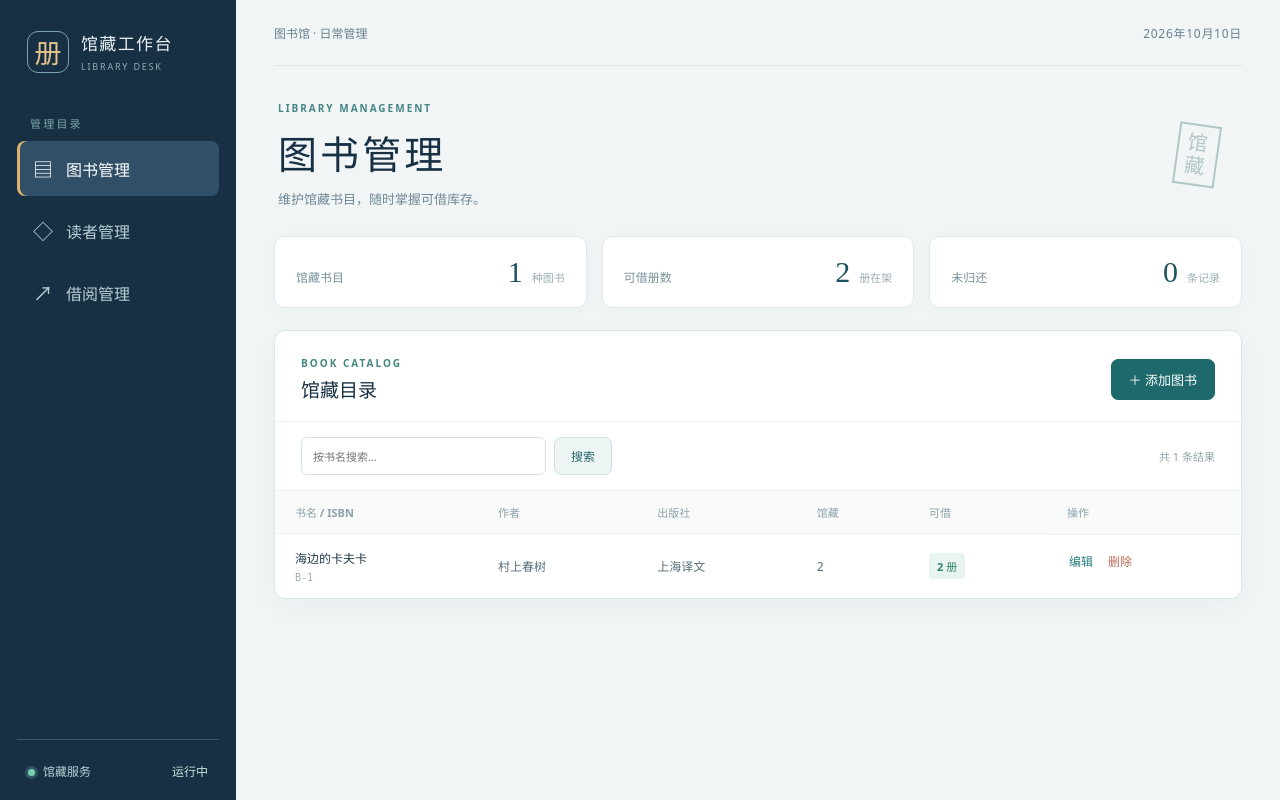
borrows and returns a book from the circulation view
Click the button "↗ 借阅管理".
click(118, 292)  # box [17,265,219,320]
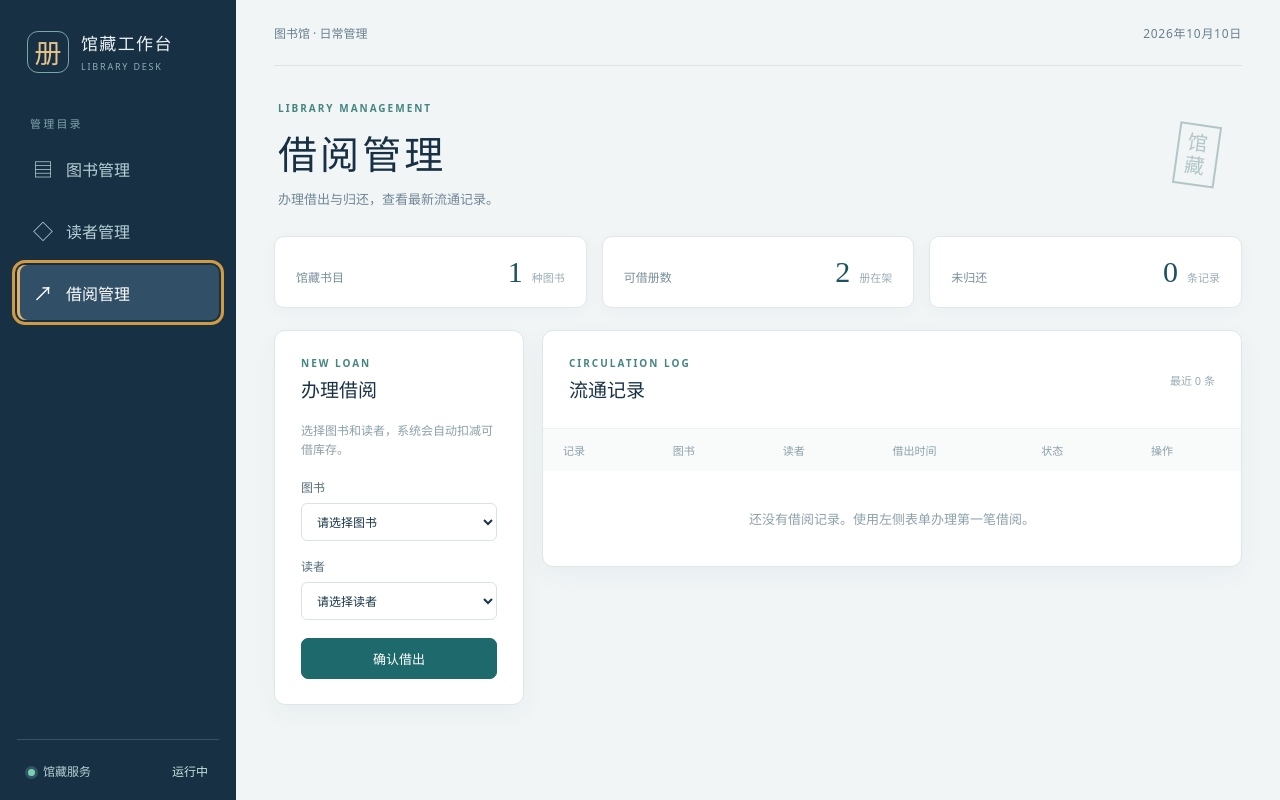
Select "海边的卡夫卡 · 可借 2 册" in the dropdown labelled "图书" at (399, 522), box [301,503,497,541]
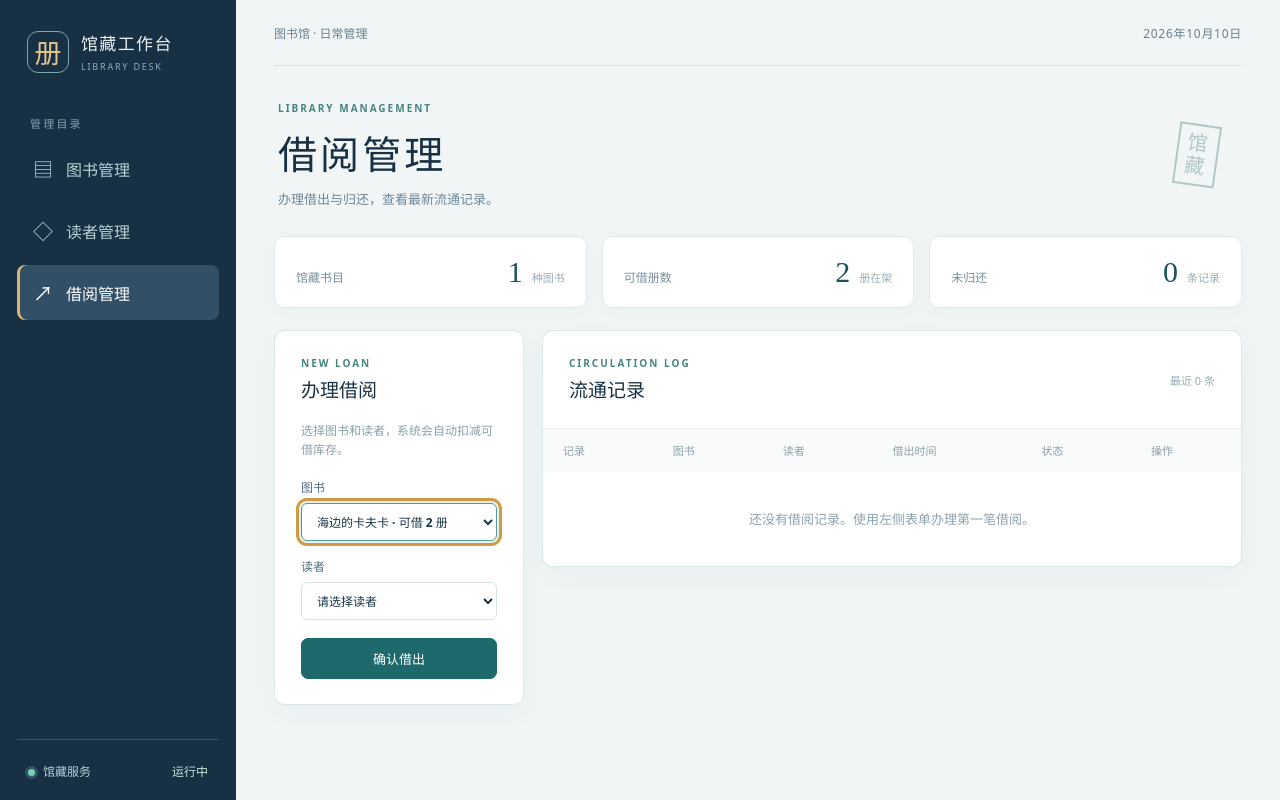
Select "林同学 · R-2" in the dropdown labelled "读者" at (399, 601), box [301,582,497,620]
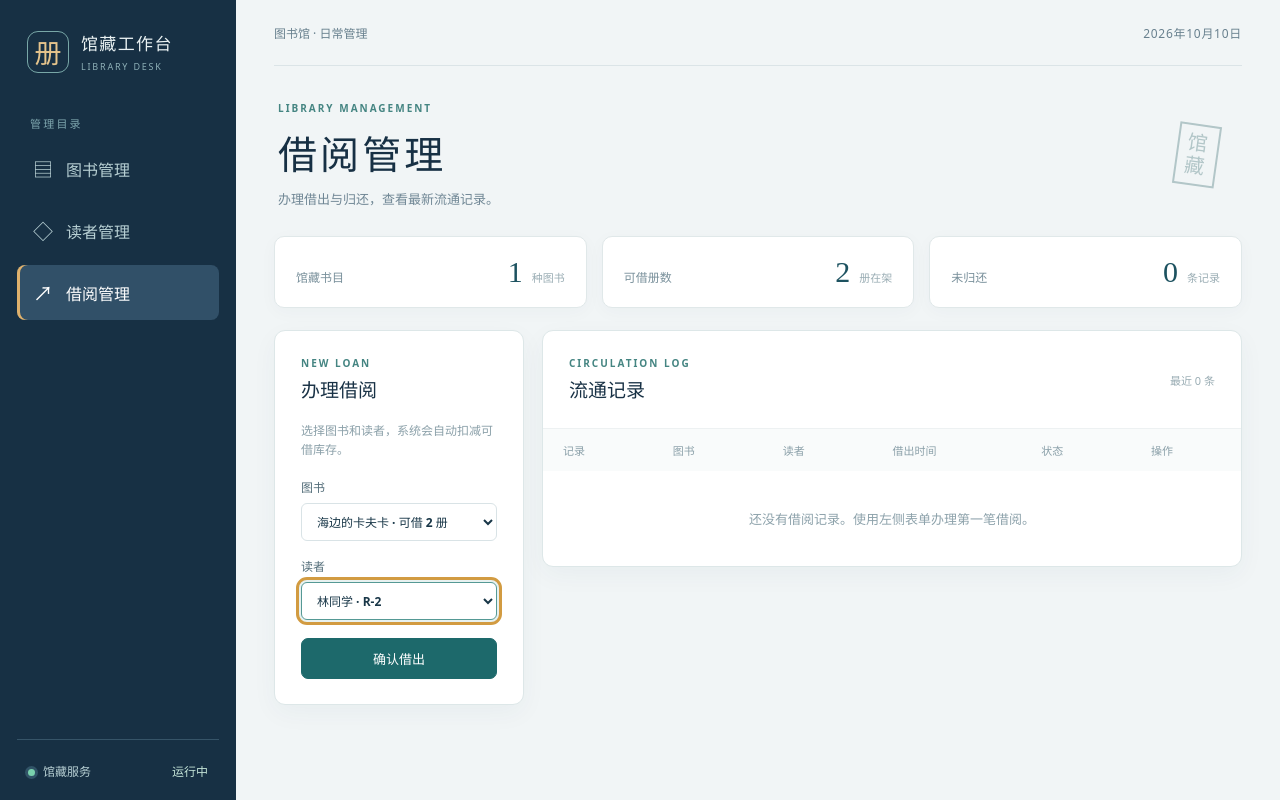
Click the button "确认借出".
click(399, 659)  # box [301,638,497,679]
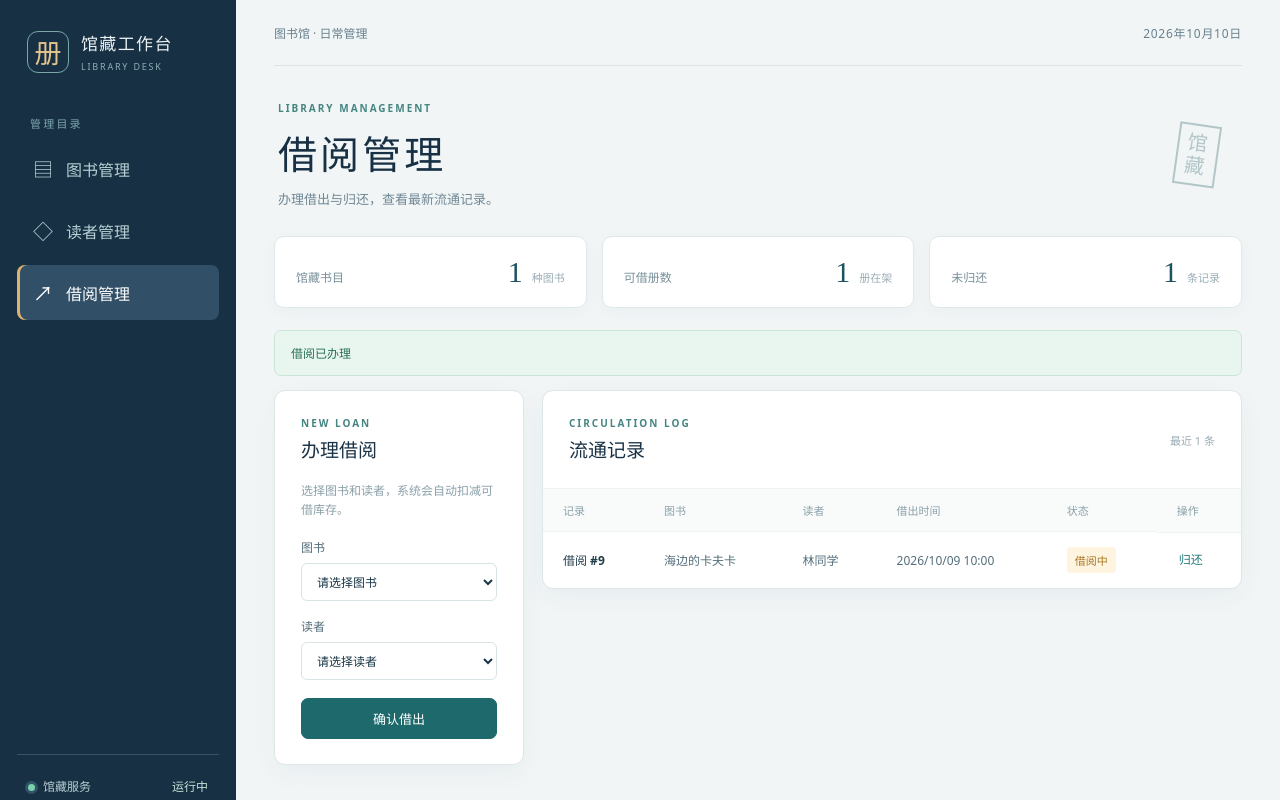
Result: the text "借阅 #9" is shown at [563,552,605,569]
Click the button "归还".
click(1191, 558)  # box [1177,548,1205,570]
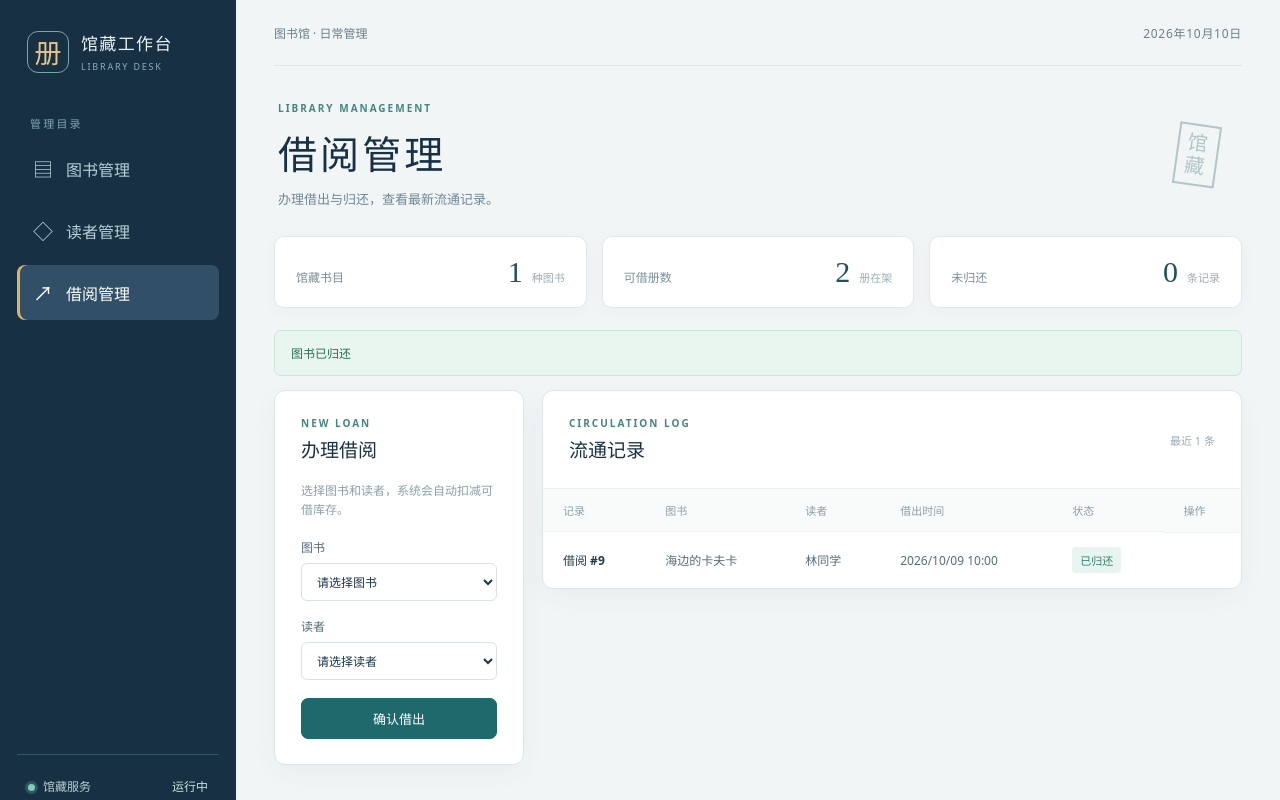
Result: the text "已归还" is shown at [1072,547,1121,573]
